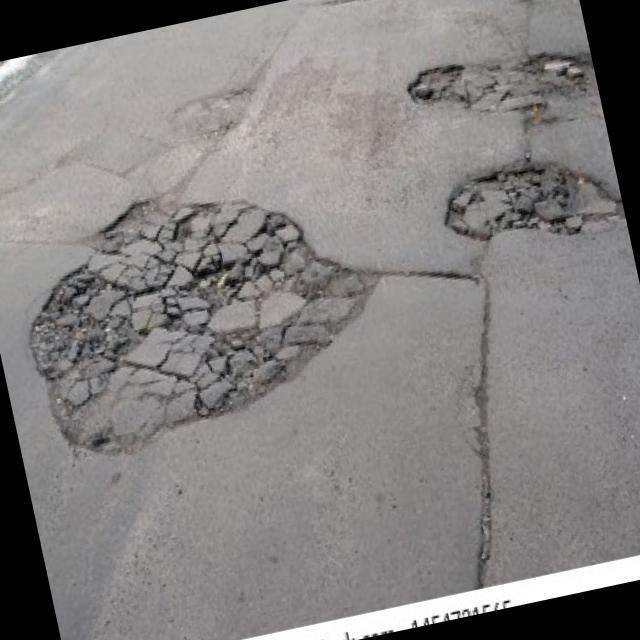Pothole: (6, 152, 408, 470), (434, 140, 626, 260), (406, 36, 600, 136), (166, 84, 265, 155)
